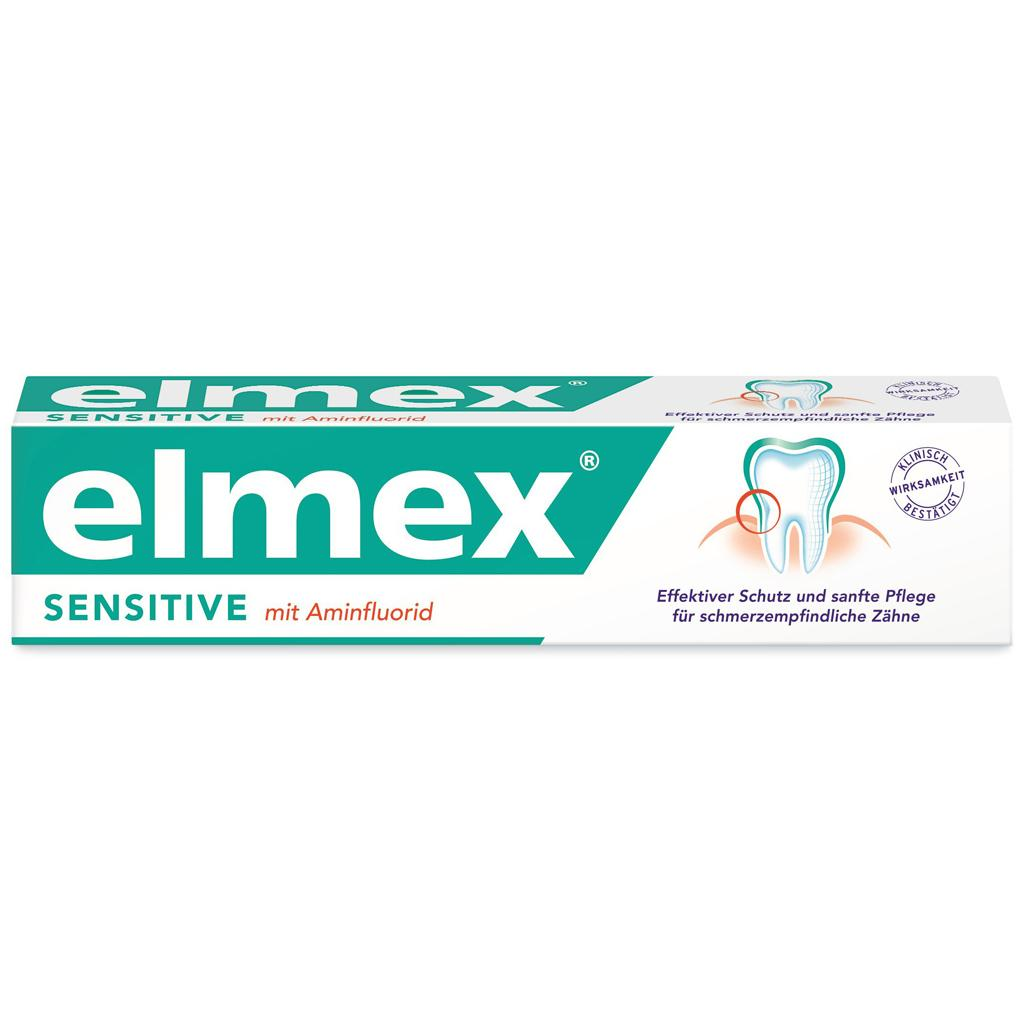toothpaste: (4, 357, 1021, 656)
